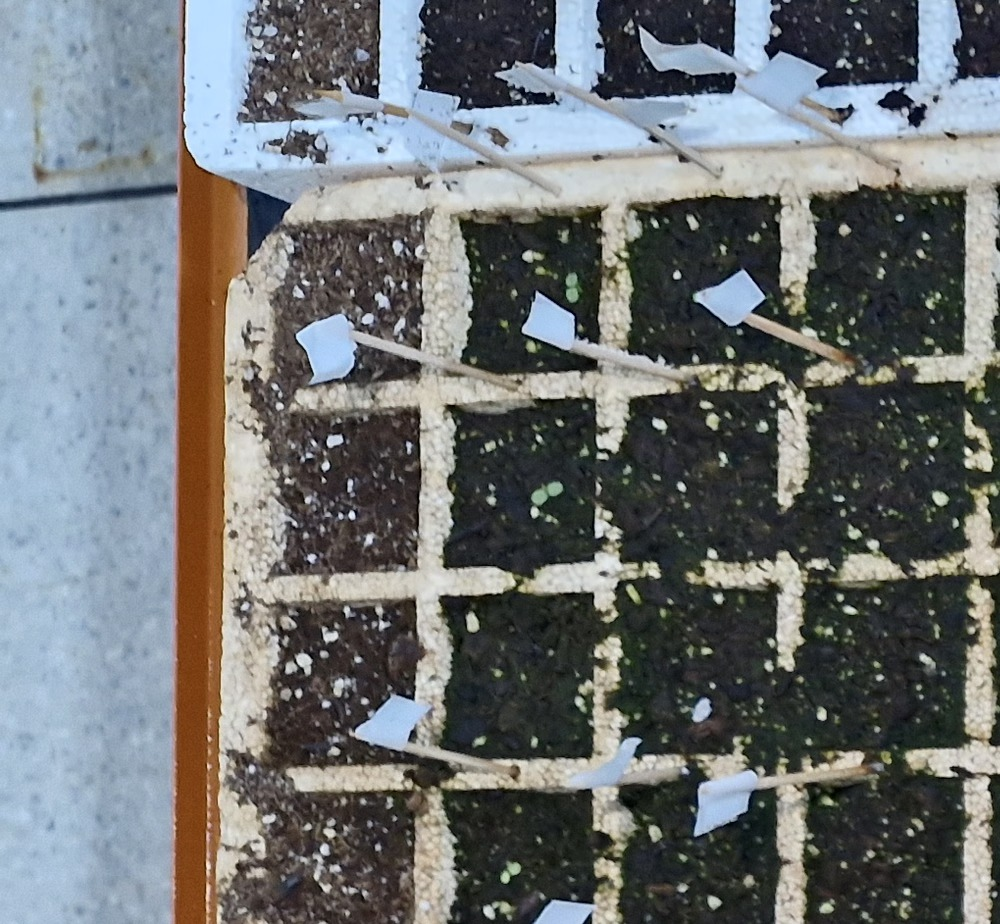Folha: (532, 489, 548, 505), (547, 481, 564, 496), (565, 273, 577, 287), (566, 288, 578, 302), (507, 863, 521, 875), (500, 871, 510, 884)
Germinacao: (531, 482, 564, 505), (500, 861, 522, 884), (566, 273, 579, 302)
